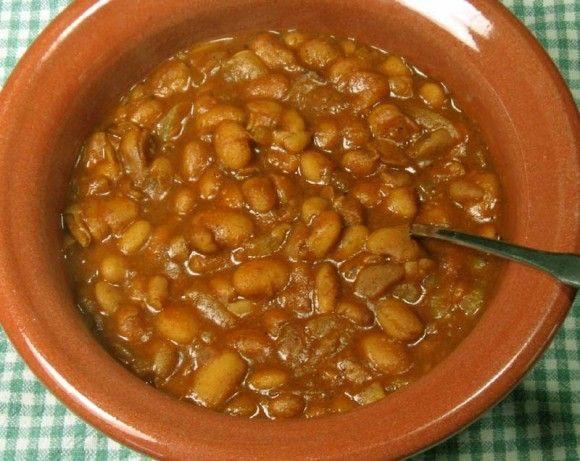RajmaCurry: (56, 23, 500, 413)
